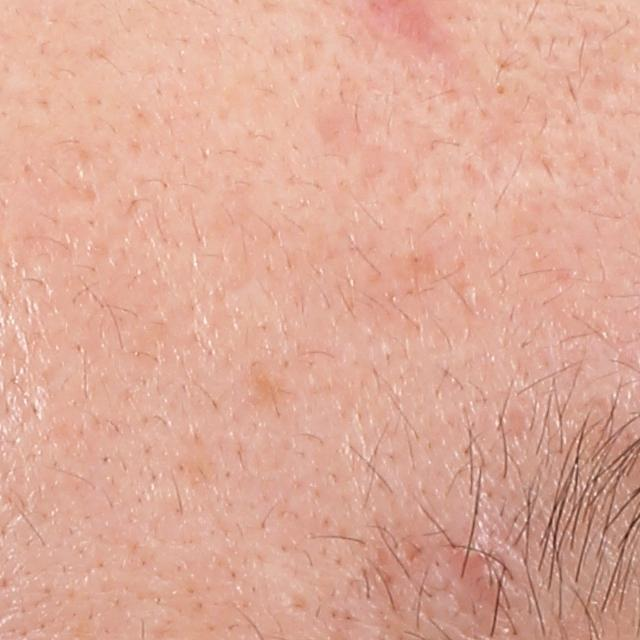comedo: (492, 80, 509, 99)
